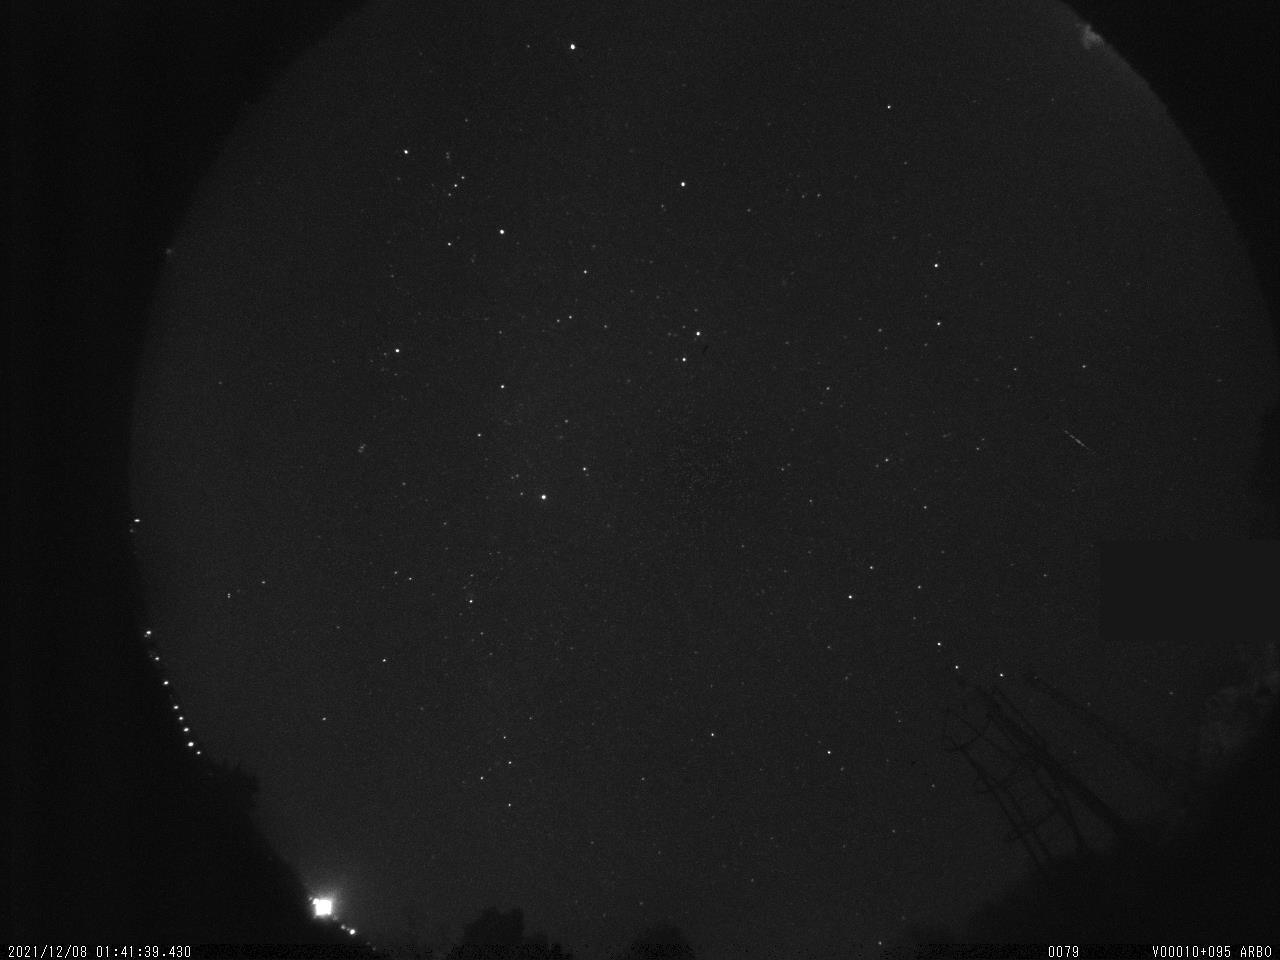meteor: (1052, 418, 1102, 462)
